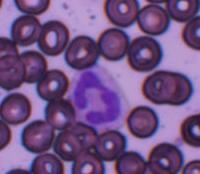N: (68, 65, 130, 130)
